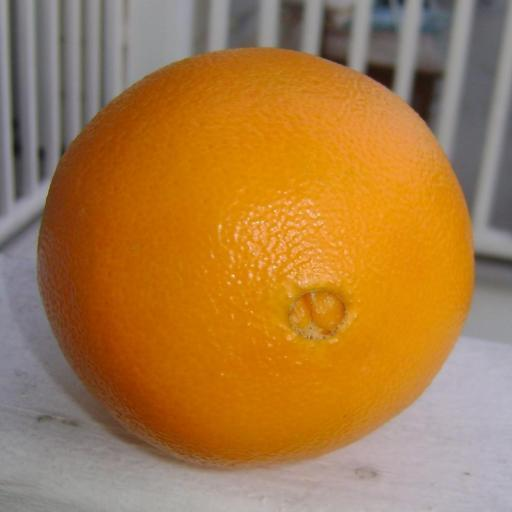orange: (38, 49, 473, 464)
